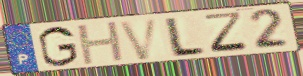2: (247, 8, 292, 52)
G: (36, 25, 80, 68)
H: (75, 19, 128, 67)
L: (164, 16, 207, 59)
V: (116, 16, 161, 62)
Z: (201, 10, 252, 55)
